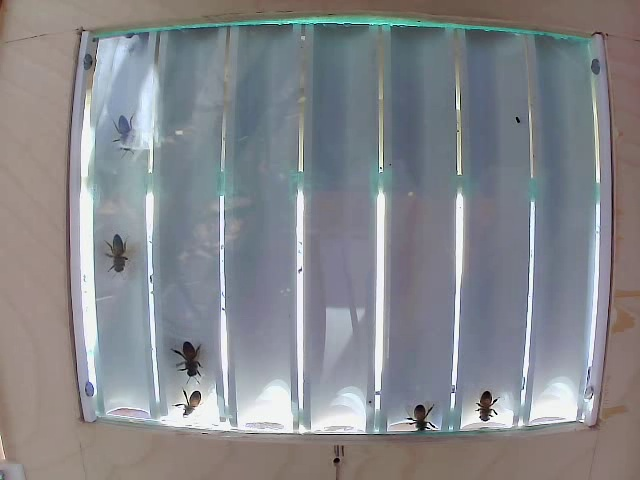bee: (101, 114, 169, 171), (465, 386, 513, 428), (94, 233, 142, 274), (175, 389, 220, 429), (167, 334, 199, 389), (400, 393, 442, 433)
